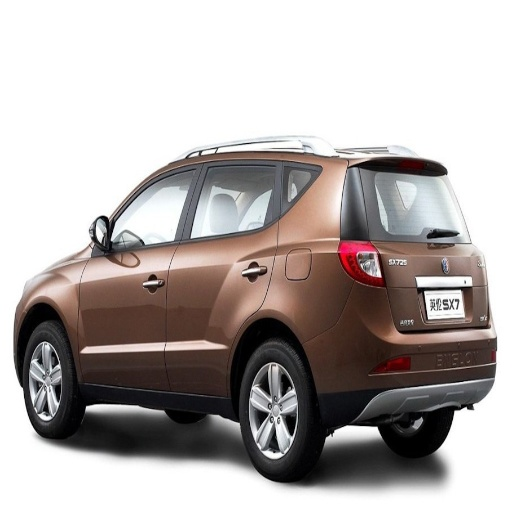back_bumper: (306, 282, 501, 424)
back_glass: (365, 166, 457, 234)
back_left_door: (168, 157, 278, 388)
back_left_light: (338, 240, 386, 288)
tailgate: (374, 229, 483, 332)
trunk: (379, 238, 437, 264)
